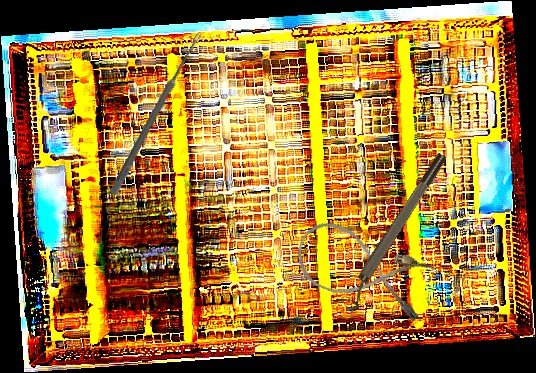Cannula: (287, 214, 439, 326)
Fixation Ring: (334, 150, 456, 316)
Surgical Spoon: (109, 31, 203, 196)
